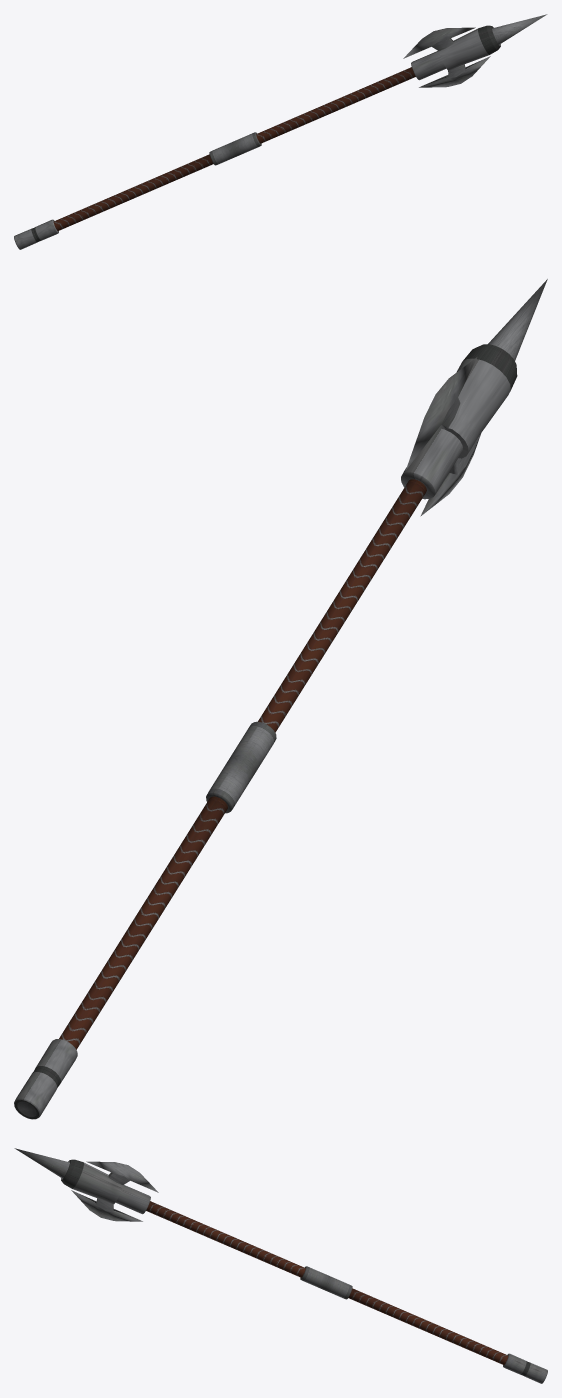
Rendered from gungnir.glb.
3 renders of one model, top to bottom at view 1: azimuth 90°, elevation 25°; view 2: azimuth 150°, elevation 25°; view 3: azimuth 270°, elevation 25°, orthographic. The views are drawn at different scales.
Parts seen in each view (by area): view 1: Gungnir_08 - Default_0, Gungnir_03 - Default_0, Gungnir_07 - Default_0; view 2: Gungnir_08 - Default_0, Gungnir_03 - Default_0, Gungnir_07 - Default_0; view 3: Gungnir_08 - Default_0, Gungnir_03 - Default_0, Gungnir_07 - Default_0.
Boxes of the visible parts, left/top/right/bottom form: Gungnir_08 - Default_0: left=14, top=14, right=547, bottom=249; Gungnir_03 - Default_0: left=53, top=67, right=415, bottom=230; Gungnir_07 - Default_0: left=31, top=25, right=500, bottom=242; Gungnir_08 - Default_0: left=14, top=279, right=547, bottom=1119; Gungnir_03 - Default_0: left=59, top=479, right=426, bottom=1049; Gungnir_07 - Default_0: left=14, top=344, right=517, bottom=1118; Gungnir_08 - Default_0: left=14, top=1148, right=547, bottom=1383; Gungnir_03 - Default_0: left=146, top=1201, right=508, bottom=1364; Gungnir_07 - Default_0: left=61, top=1159, right=530, bottom=1376.
Bounding box in the file's own units: 140 × 1241 × 2556.
Materials: 3 (3 with a texture image).
